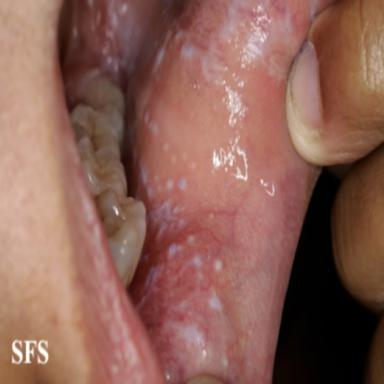lichen: (131, 109, 229, 381), (152, 2, 311, 131)
